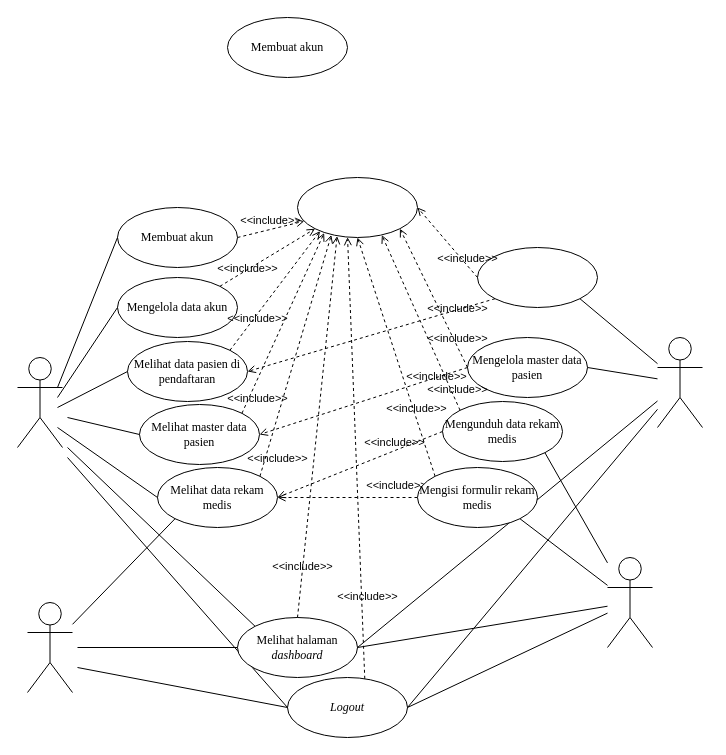
Some shapes in this 726 by 755 pixel diagram are drawn without their labels. Each missing label, with the centre of its shape:
"Admin" goes at point (39, 402).
"Bidan" goes at point (629, 602).
"Dokter" goes at point (49, 647).
"Login" goes at point (357, 207).
"Menambah data pasien di bagian pendaftarn" goes at point (537, 277).
"Petugas pendaftaran" goes at point (679, 382).
